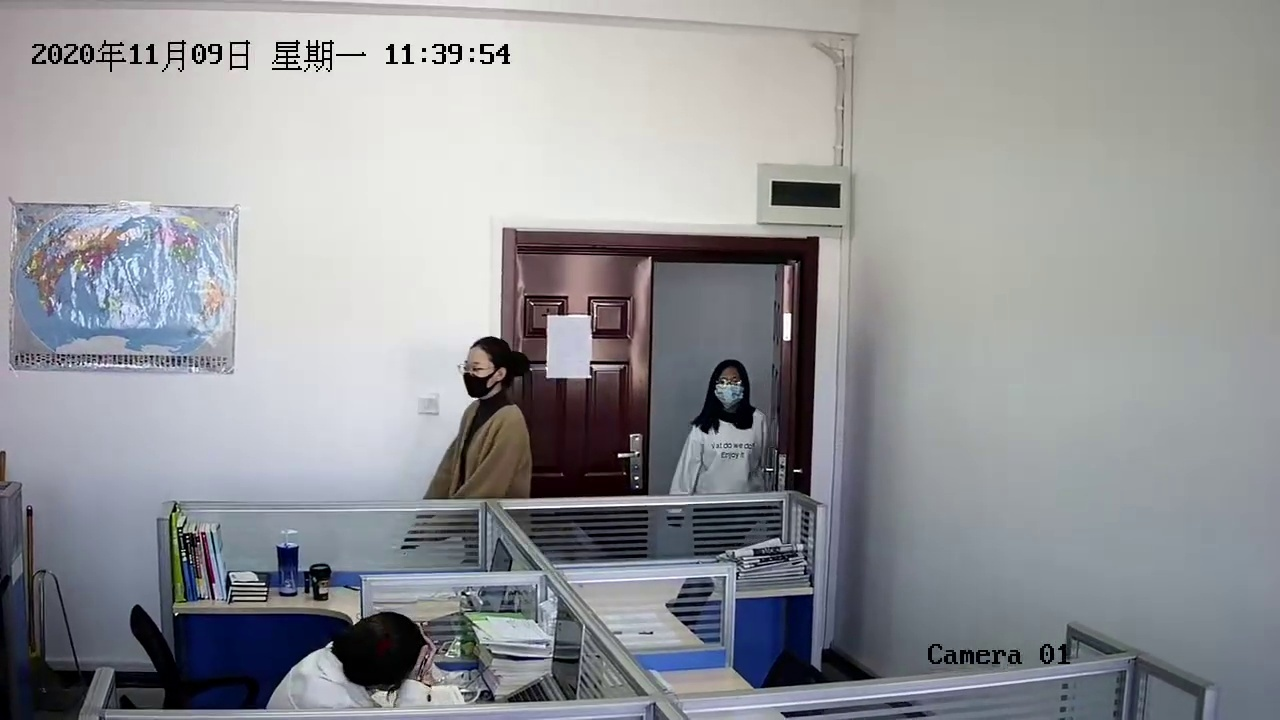mask: (452, 341, 507, 404), (707, 352, 752, 409)
